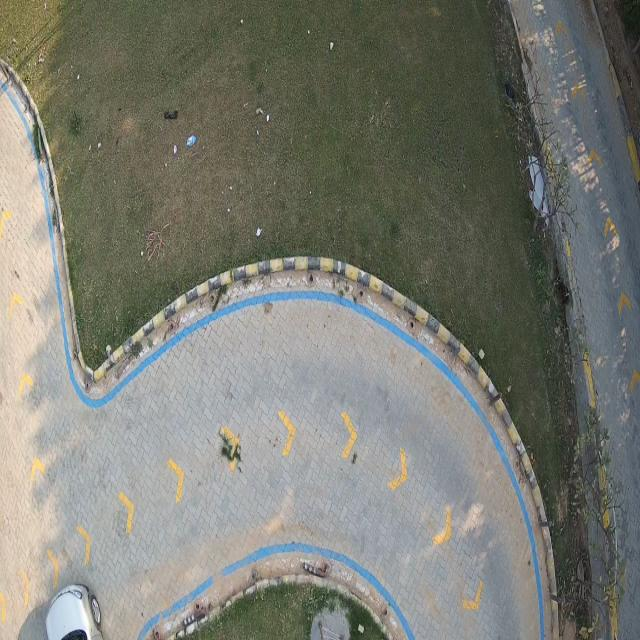car: (45, 584, 104, 640)
